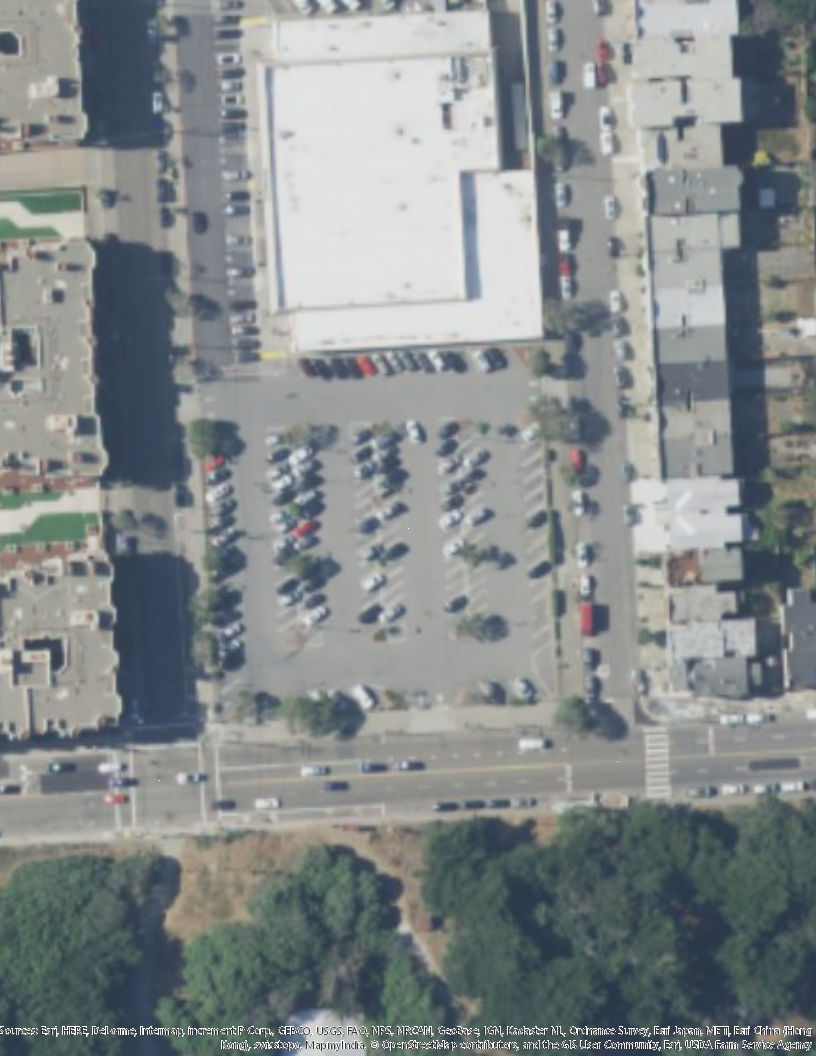zebracross: (640, 726, 675, 796)
